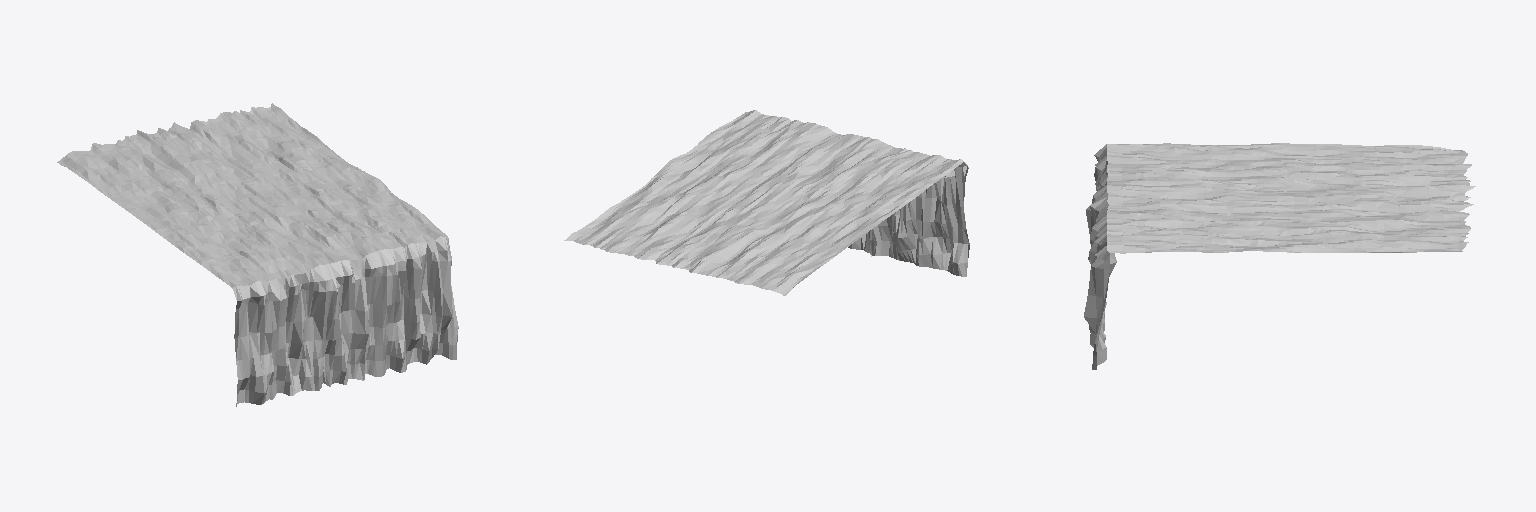
Rendered from FloorNoBackSidesShort.obj.
The picture shows the model from 3 angles: view 1: azimuth 30°, elevation 25°; view 2: azimuth 150°, elevation 25°; view 3: azimuth 270°, elevation 25°; orthographic projection.
Visible parts, largest first — view 1: box_object1; view 2: box_object1; view 3: box_object1.
Boxes of the visible parts, <box> form: box_object1: <box>57,103,458,406</box>; box_object1: <box>564,110,969,295</box>; box_object1: <box>1084,143,1475,369</box>.
Bounding box in the file's own units: 36.68 × 19.65 × 56.34.